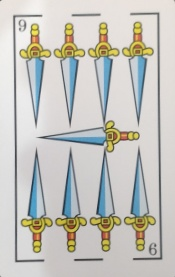9e: (11, 10, 161, 35)
